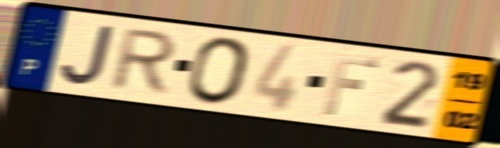2: (375, 59, 443, 131)
4: (250, 41, 303, 116)
F: (319, 51, 383, 118)
J: (58, 22, 117, 88)
O: (186, 34, 254, 107)
R: (105, 26, 181, 97)
